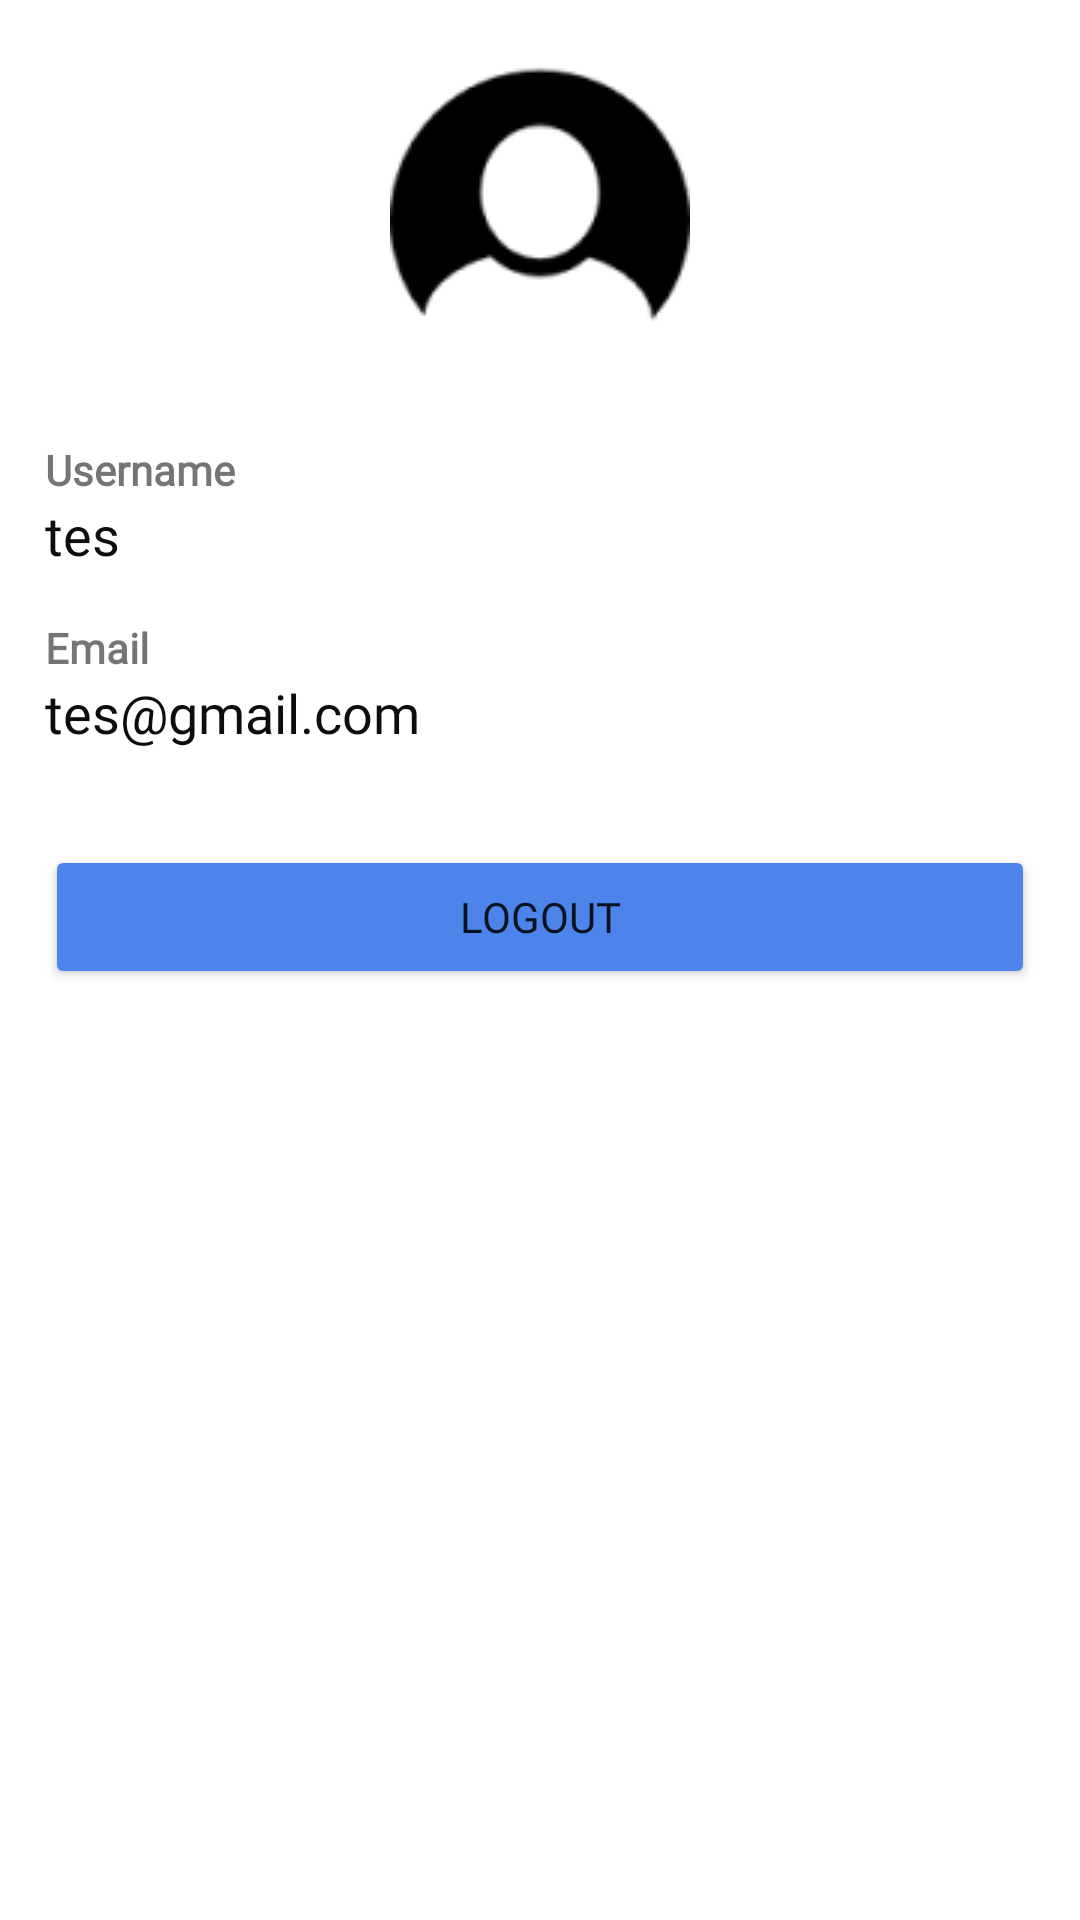

Icons on this 1080 x 1920 Android screen, each with the point to tap as [x,y]:
profile: [540,194]
